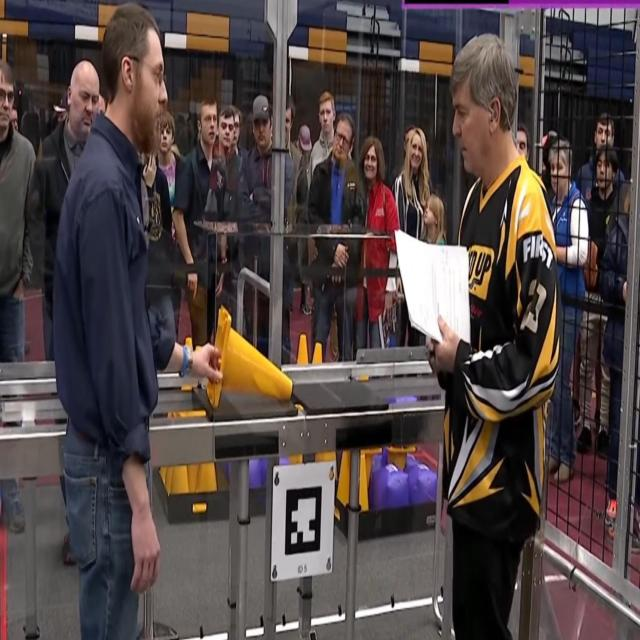frc_cone: (202, 302, 292, 407), (384, 440, 413, 472), (336, 450, 352, 507), (358, 452, 371, 512), (196, 464, 217, 495), (293, 330, 311, 366), (173, 459, 190, 494), (186, 460, 198, 493), (161, 461, 175, 488), (310, 342, 324, 366), (184, 333, 194, 360)
frc_cube: (374, 462, 408, 510), (407, 462, 436, 506), (248, 456, 264, 486)
